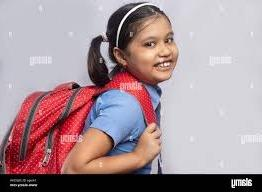Human: (68, 5, 193, 178)
